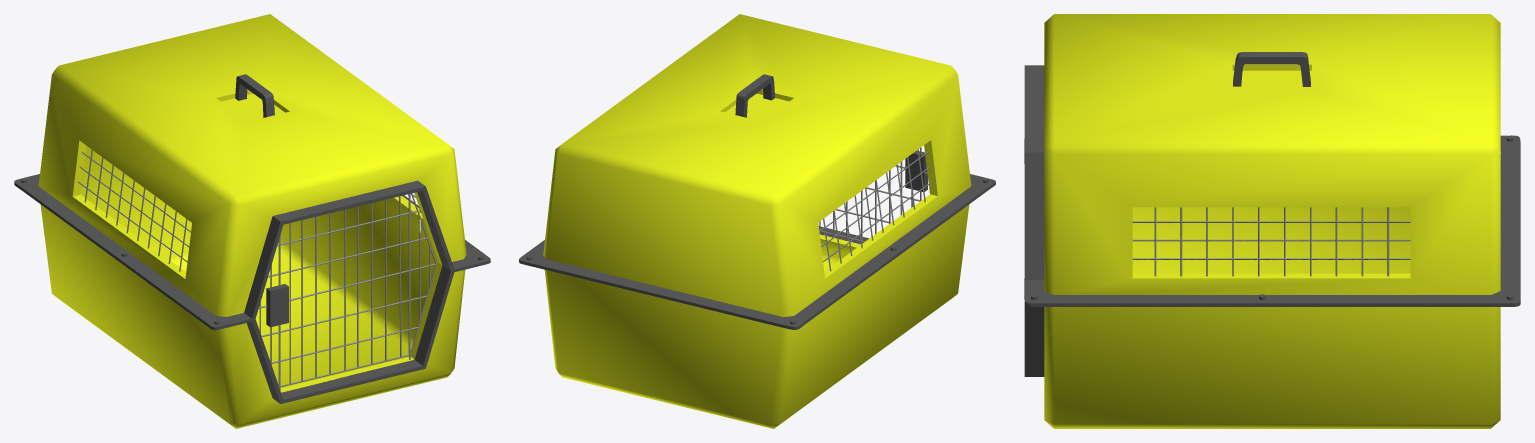
Rendered from YellowGauge.fbx.
3 renders of one model, left to right at view 1: azimuth 30°, elevation 25°; view 2: azimuth 150°, elevation 25°; view 3: azimuth 270°, elevation 25°, orthographic. The views are drawn at different scales.
Parts seen in each view (by area): view 1: polySurface1257; view 2: polySurface1257; view 3: polySurface1257.
Boxes of the visible parts, box(x1,y1,x2,y2) form: polySurface1257: box(14, 14, 490, 428); polySurface1257: box(519, 14, 995, 428); polySurface1257: box(1024, 14, 1520, 428).
Bounding box in the file's own units: 508 × 440 × 635.
1 material, 1 textured.
